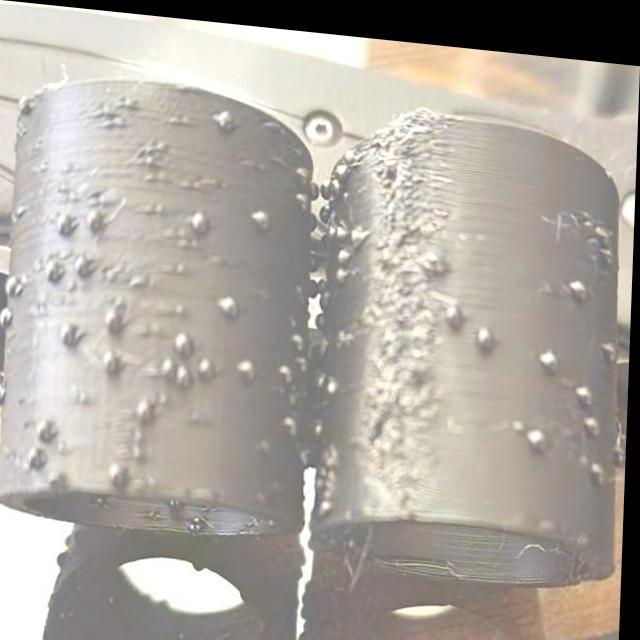zits: (582, 440, 614, 477), (80, 195, 111, 233), (536, 327, 566, 365), (232, 346, 268, 377), (39, 251, 70, 287), (187, 198, 218, 232), (0, 266, 26, 306), (441, 281, 468, 319), (216, 283, 249, 314), (566, 254, 594, 290), (130, 391, 162, 422), (472, 311, 498, 349), (526, 406, 552, 444), (102, 298, 128, 336), (212, 97, 238, 133), (52, 207, 78, 241), (33, 413, 60, 445), (22, 435, 45, 471), (60, 316, 85, 349), (198, 348, 226, 377), (580, 396, 606, 427), (248, 194, 272, 224), (103, 348, 124, 382), (576, 367, 602, 393), (108, 451, 131, 480), (326, 362, 346, 394), (0, 299, 20, 331), (334, 240, 360, 264), (292, 152, 314, 180), (274, 355, 298, 379), (290, 182, 314, 206), (286, 322, 309, 346), (159, 352, 182, 376), (330, 256, 351, 282), (174, 360, 195, 386), (177, 324, 196, 352), (152, 132, 174, 154), (330, 148, 349, 170), (14, 199, 33, 220), (0, 376, 11, 410), (142, 144, 157, 165), (118, 93, 136, 108), (0, 466, 5, 489)
